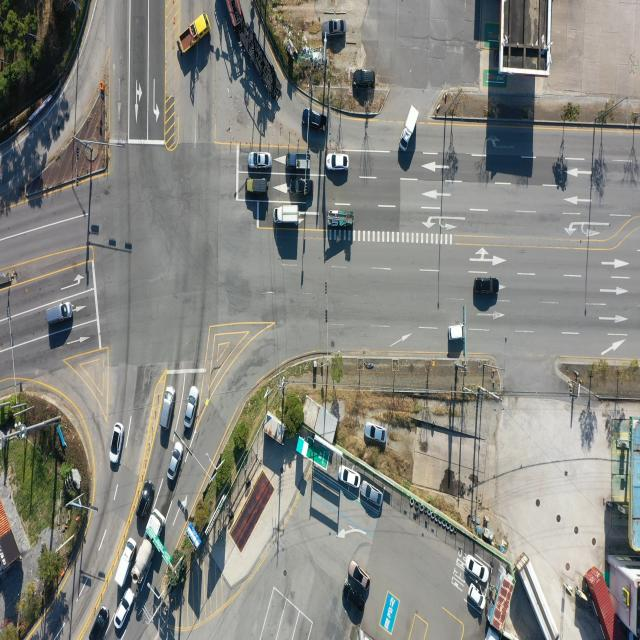car: (116, 588, 136, 630), (344, 580, 365, 616), (182, 387, 198, 431), (348, 558, 370, 590), (161, 385, 176, 431), (168, 440, 185, 480), (302, 106, 328, 132), (137, 483, 154, 520), (46, 302, 72, 325), (467, 556, 489, 583), (89, 607, 107, 640), (113, 422, 126, 463), (339, 465, 362, 487), (361, 484, 382, 508), (468, 584, 486, 610), (475, 278, 500, 296), (248, 180, 272, 198), (364, 423, 386, 442), (352, 68, 374, 87), (325, 19, 346, 38), (326, 154, 348, 172), (291, 182, 313, 199), (250, 152, 272, 168), (448, 324, 466, 341)
large_truck: (227, 2, 282, 98)
medium_truck: (520, 557, 562, 640), (130, 512, 164, 589)
small_truck: (179, 10, 213, 54), (117, 538, 138, 587), (401, 106, 420, 151), (329, 208, 350, 232), (274, 205, 299, 224), (287, 154, 311, 172)
